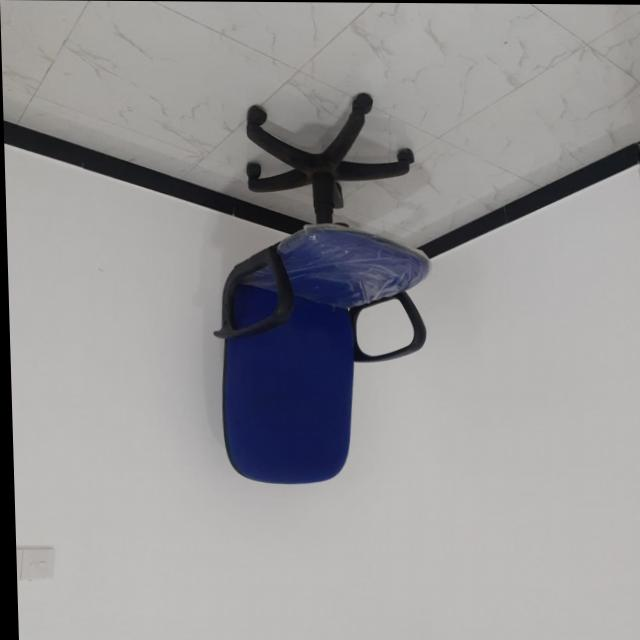Chair: (204, 85, 439, 487)
